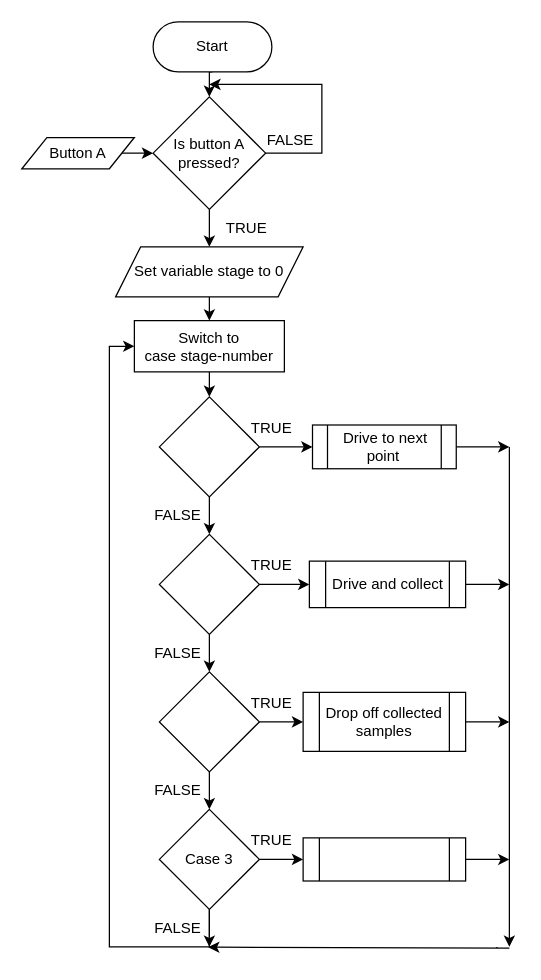
This 541x980 diagram has some shape labels left out. The centre of each missing label's shape, as x and y in pixels:
Case 0: point 208,446
Case 1: point 208,583
Case 2: point 208,721
Drive to previous point: point 384,859
